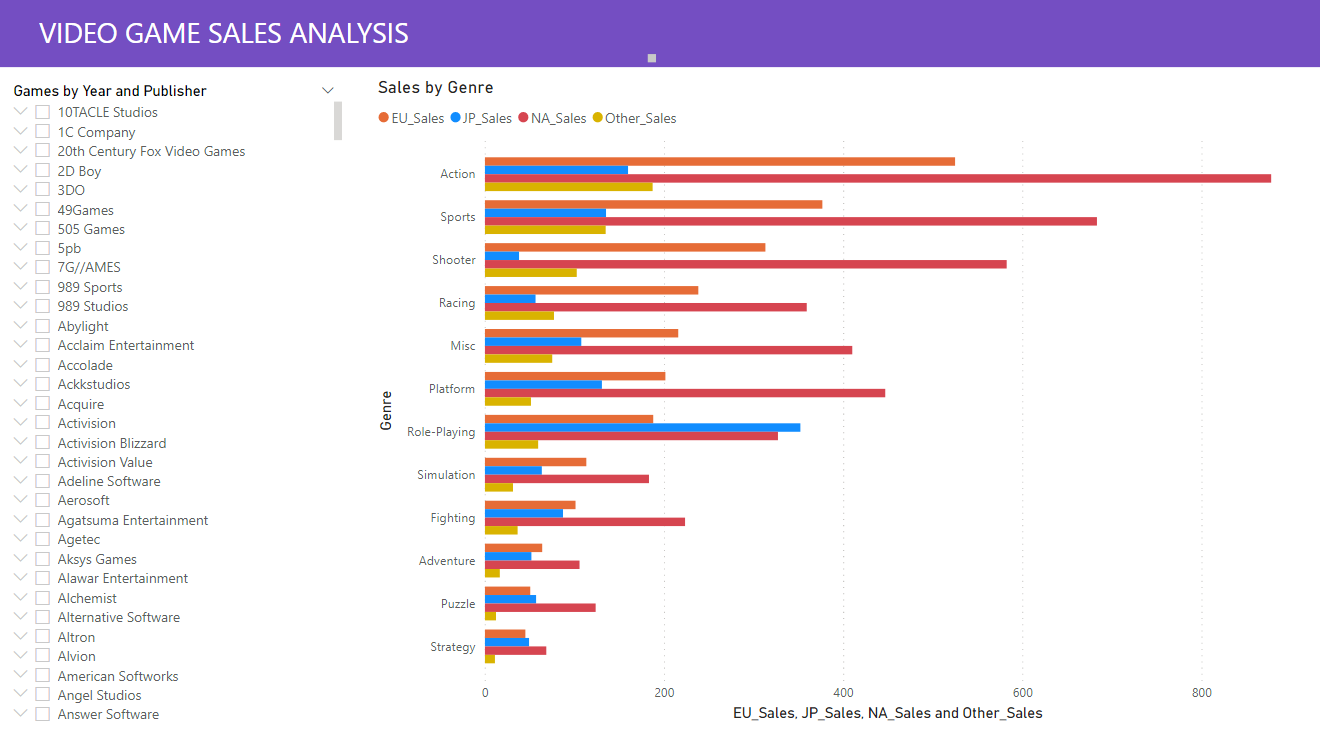

This screenshot's page, from the dashboard's own definition file:
{"tool":"powerbi","page":{"name":"Page 1","canvas":[1280,720],"ordinal":0},"visuals":[{"type":"shape","box":[0,0,1280.3,66.6],"z":0},{"type":"textbox","title":"VIDEO GAME SALES ANALYSIS","box":[32.7,13.3,607.5,53.2],"z":1000},{"type":"slicer","fields":{"Values":["vgsales.Publisher","vgsales.Year","vgsales.Name"]},"box":[0,75,336.4,629.2],"z":2000},{"type":"clusteredBarChart","title":"Sales by Genre","fields":{"Y":["Sum(vgsales.EU_Sales)","Sum(vgsales.JP_Sales)","Sum(vgsales.NA_Sales)","Sum(vgsales.Other_Sales)"],"Category":["vgsales.Genre"]},"box":[360.6,75,903.9,629.2],"z":3000}]}

Visuals, with their boxes in screenshot pixels (x1, y1, x2, y2), scaled from the page's 1280x720 canvas onto the 1320x740 screenshot:
shape: (0, 0, 1319, 68)
"VIDEO GAME SALES ANALYSIS" textbox: (34, 14, 660, 68)
slicer - vgsales.Publisher x vgsales.Year: (0, 77, 347, 724)
"Sales by Genre" clusteredBarChart: (372, 77, 1304, 724)
